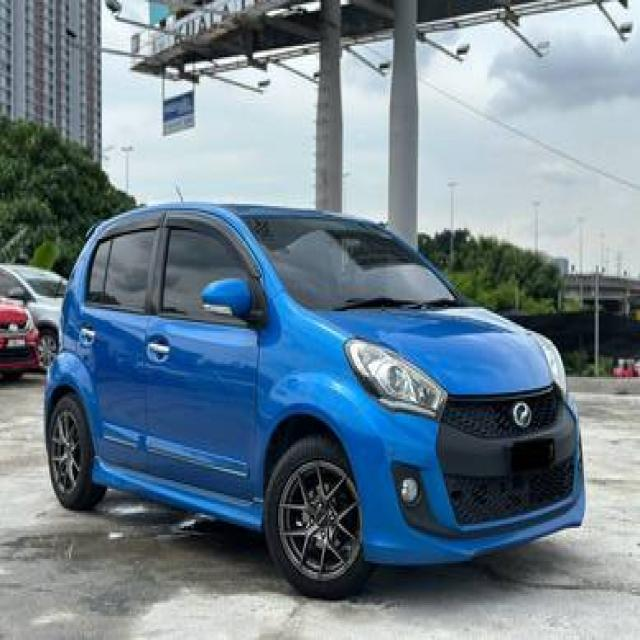PeroduaMyvi: (41, 195, 587, 601)
